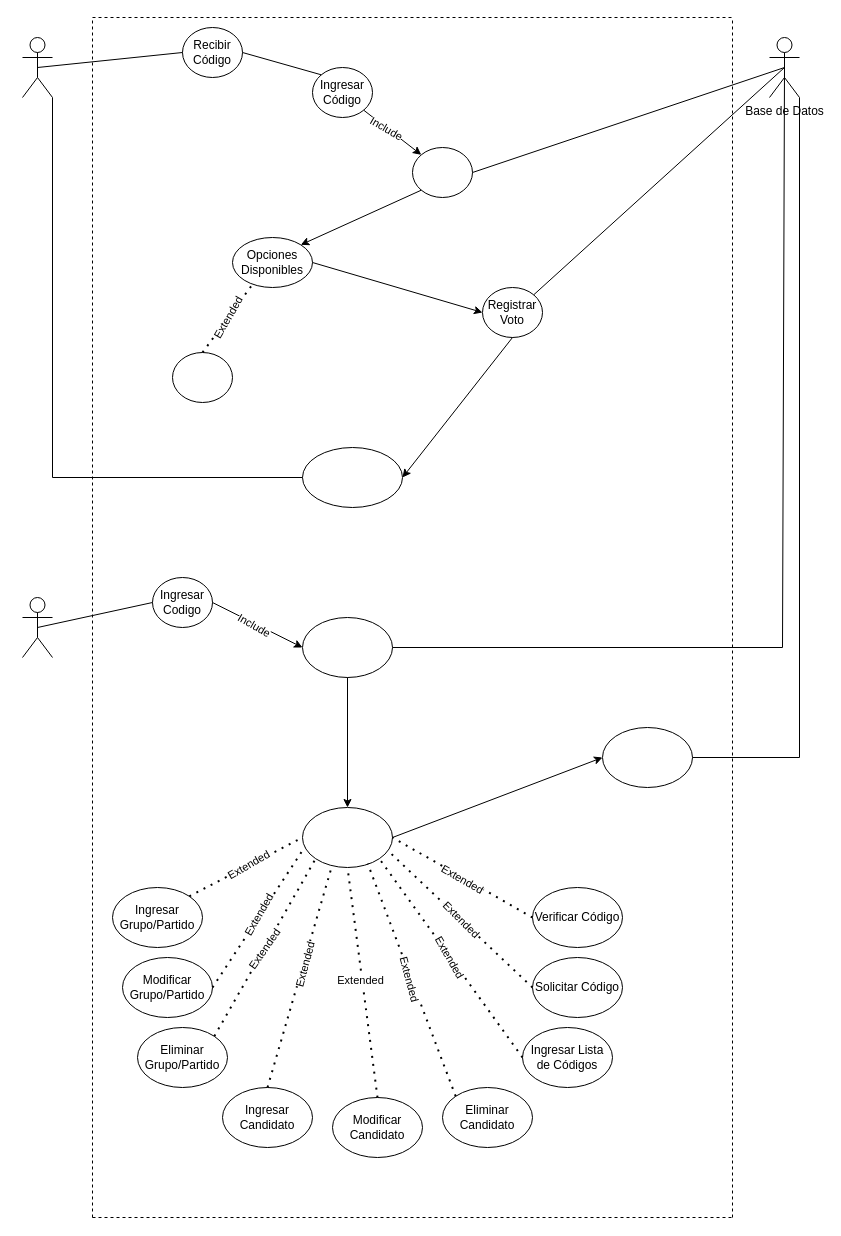
This 841x1236 diagram has some shape labels left out. The centre of each missing label's shape, as x and y in pixels:
Admin: point 37,627
Notificación de Voto Registrado: point 352,477
Opciones que puede realizar: point 347,837
Partido/ Grupo: point 202,377
Realizar Acción: point 647,757
Validar Administrador: point 347,647
Validar Votante: point 442,172
Votante: point 37,67
